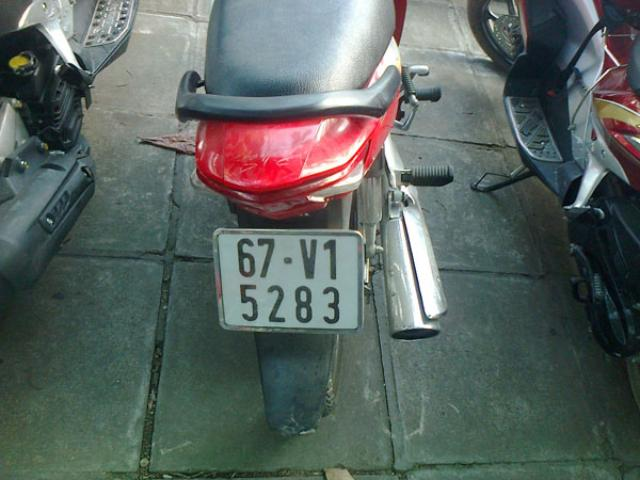plate: (214, 227, 360, 331)
